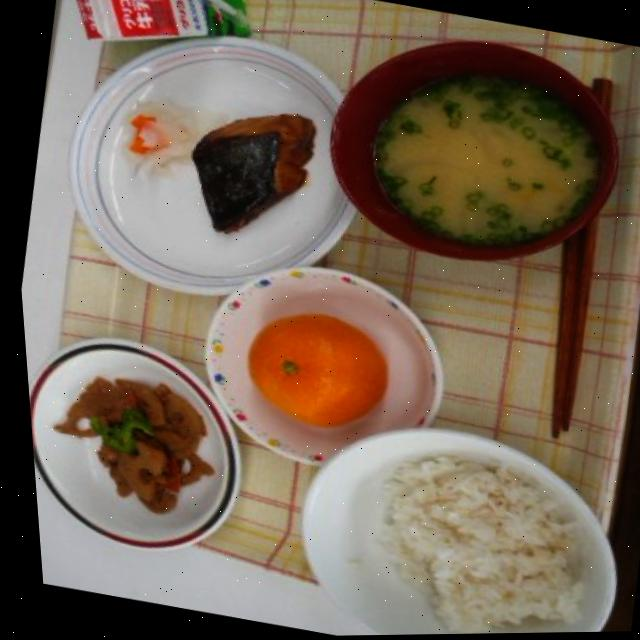米饭主食: (269, 400, 632, 637)
